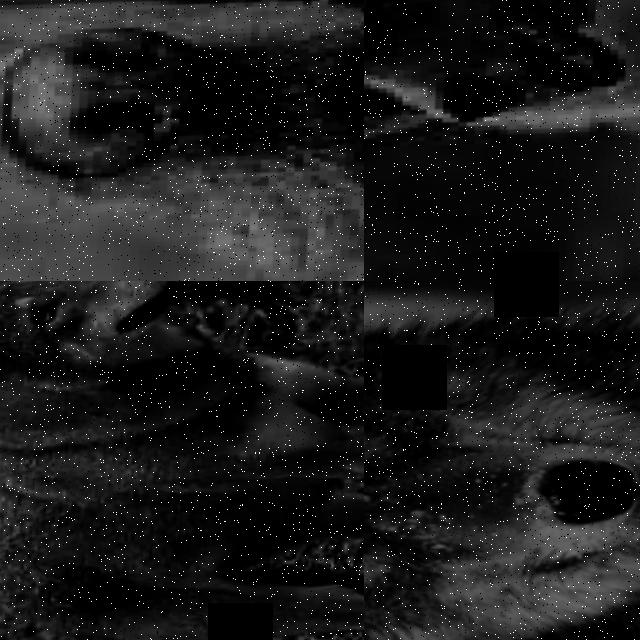dog: (0, 0, 364, 281), (364, 0, 640, 193), (364, 200, 640, 281)
wolf: (0, 281, 364, 640), (364, 281, 640, 640)
